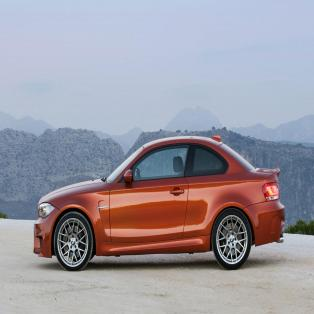Auto: (31, 132, 287, 276)
